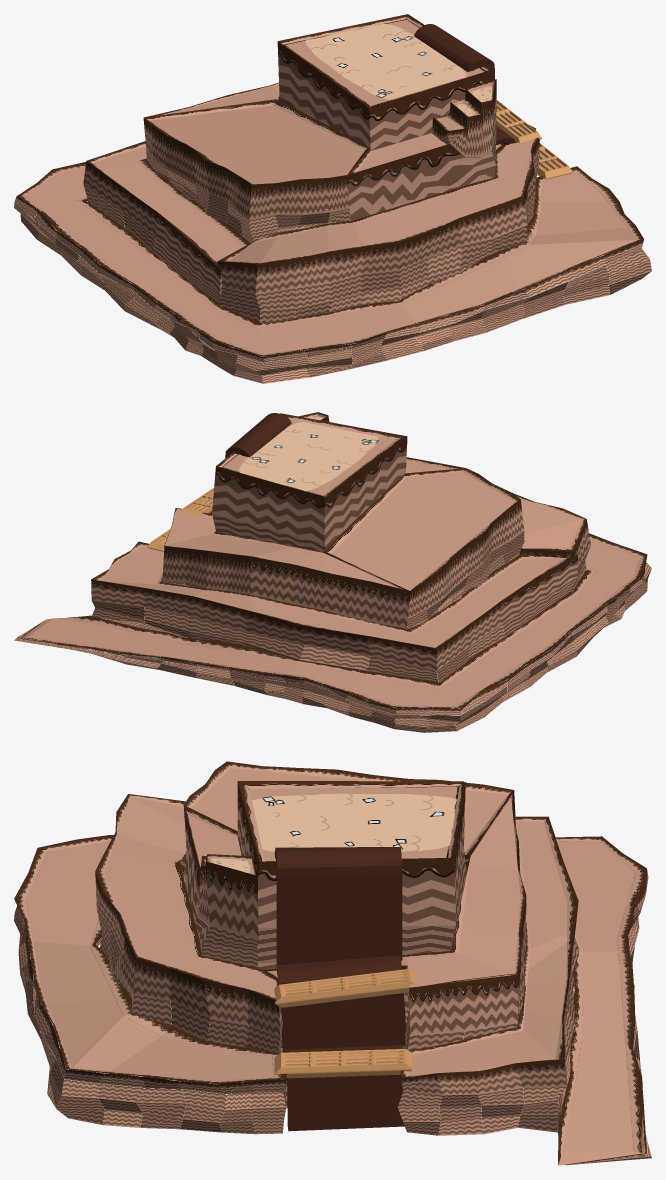
The model's file is MontanhaFinal2.fbx.
3 renders of one model, top to bottom at view 1: azimuth 30°, elevation 25°; view 2: azimuth 150°, elevation 25°; view 3: azimuth 270°, elevation 25°, orthographic. The views are drawn at different scales.
Parts seen in each view (by area): view 1: Cube.003, Cube, Cube.005, Cube.004; view 2: Cube.003, Cube, Cube.005; view 3: Cube.003, Cube, Cube.001, Cube.002, Cube.004, Cube.005.
Part boxes in pixels (bbox=[...]): Cube.003: bbox=[14, 14, 651, 383]; Cube: bbox=[414, 24, 494, 79]; Cube.005: bbox=[496, 100, 541, 142]; Cube.004: bbox=[537, 143, 572, 179]; Cube.003: bbox=[14, 412, 651, 732]; Cube: bbox=[225, 413, 291, 457]; Cube.005: bbox=[180, 488, 213, 516]; Cube.003: bbox=[14, 761, 651, 1165]; Cube: bbox=[274, 847, 402, 970]; Cube.001: bbox=[276, 955, 406, 1052]; Cube.002: bbox=[284, 1045, 404, 1131]; Cube.004: bbox=[274, 1049, 412, 1078]; Cube.005: bbox=[274, 969, 416, 1007].
Bounding box in the file's own units: 2489 × 929 × 2259.
